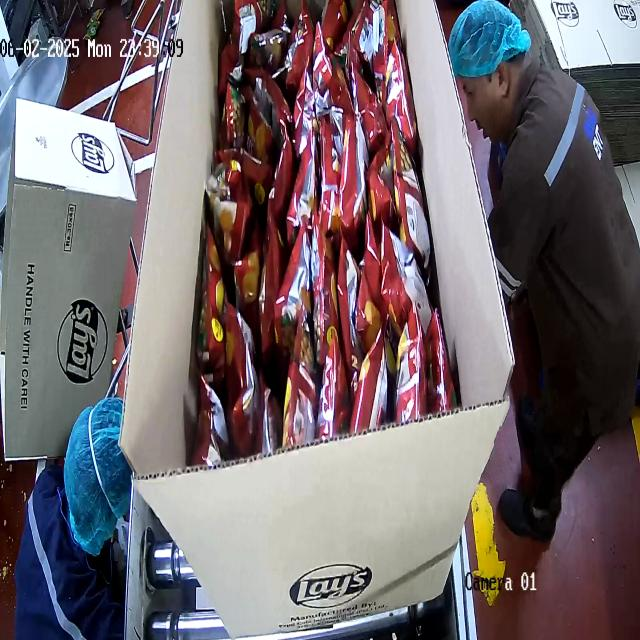MASALA: (179, 0, 432, 471)
